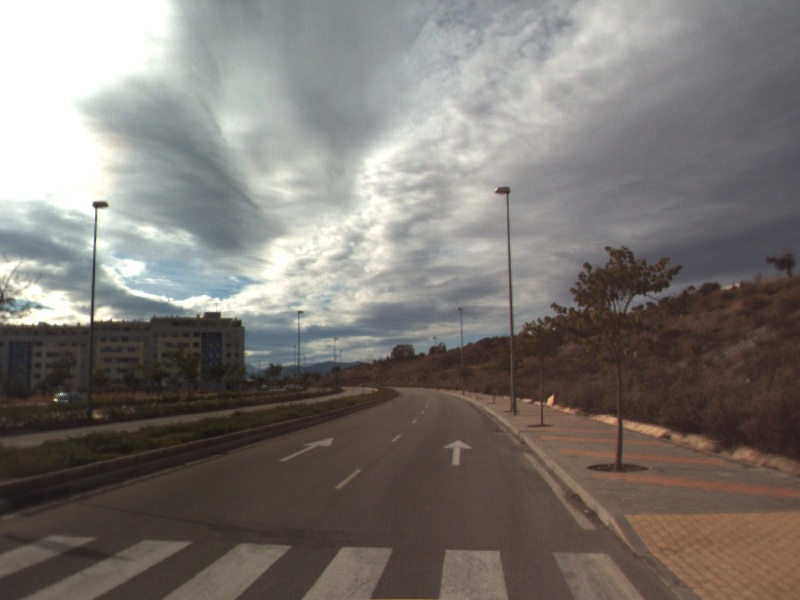STRAIGHT: (277, 435, 335, 463), (441, 438, 475, 467)
